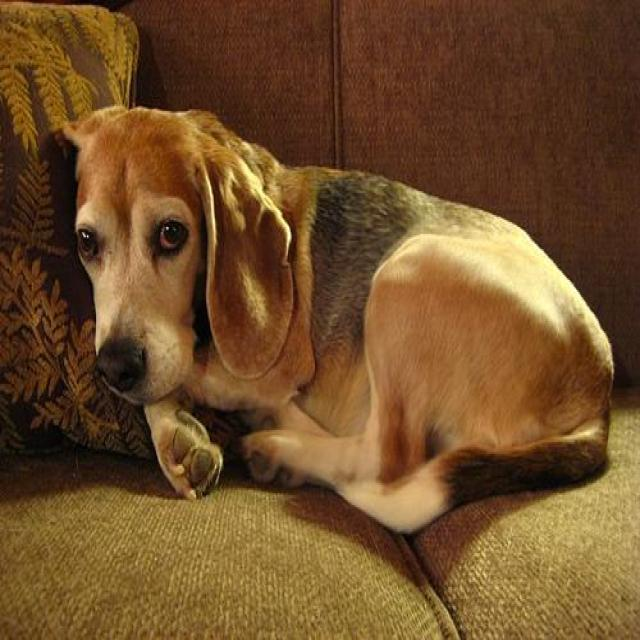beagle: (54, 99, 613, 529)
